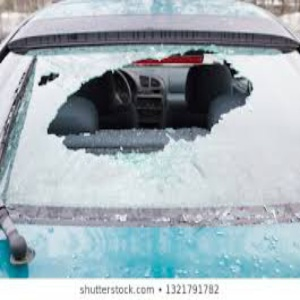rear_windshield_glass: (37, 44, 284, 198)
